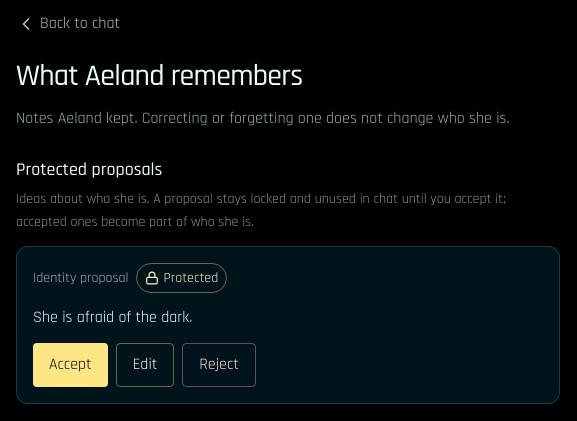
Test: WhatSheRemembers identity proposals › accepts a pending proposal
Click the button "Accept".
click(70, 364)  # box [33,342,108,386]
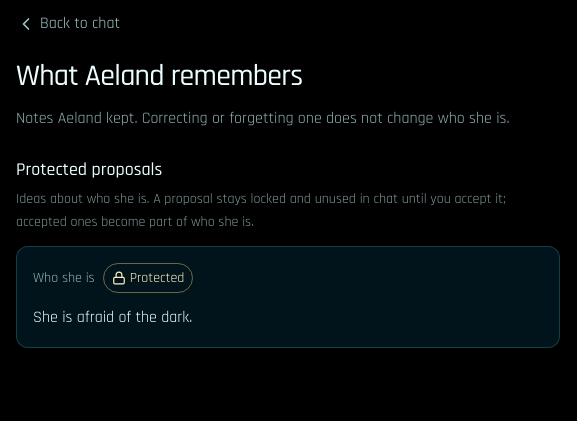
Expected: the button "Accept" is not shown
Now the text "Who she is" is shown, box [33,268,95,288]
